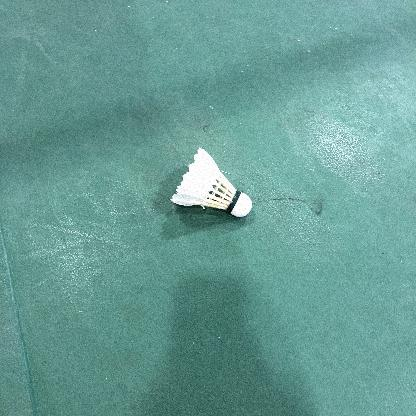ball_single: (170, 147, 252, 217)
